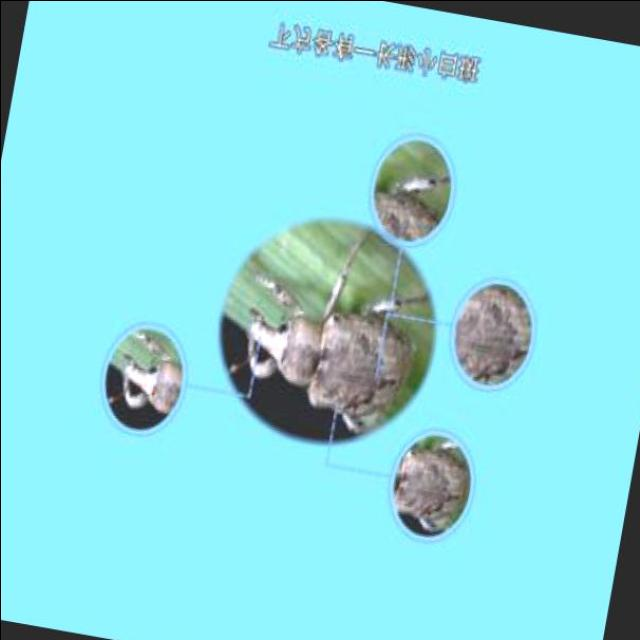ricebug: (247, 265, 408, 433)
